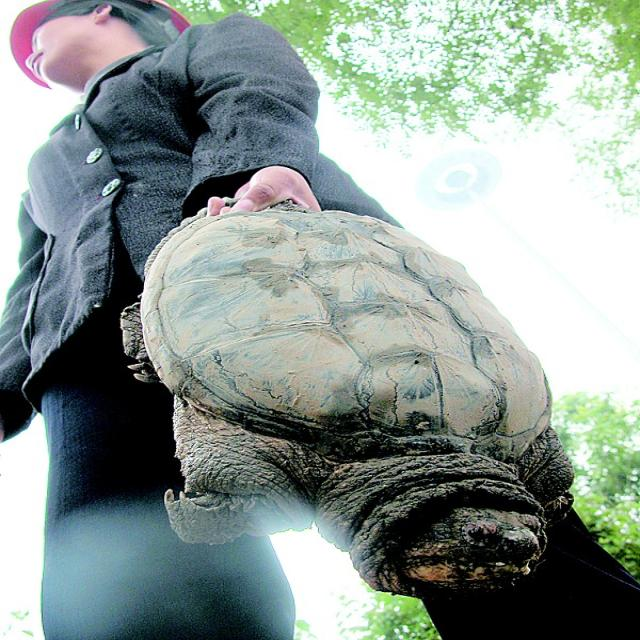helmet: (6, 0, 198, 93)
